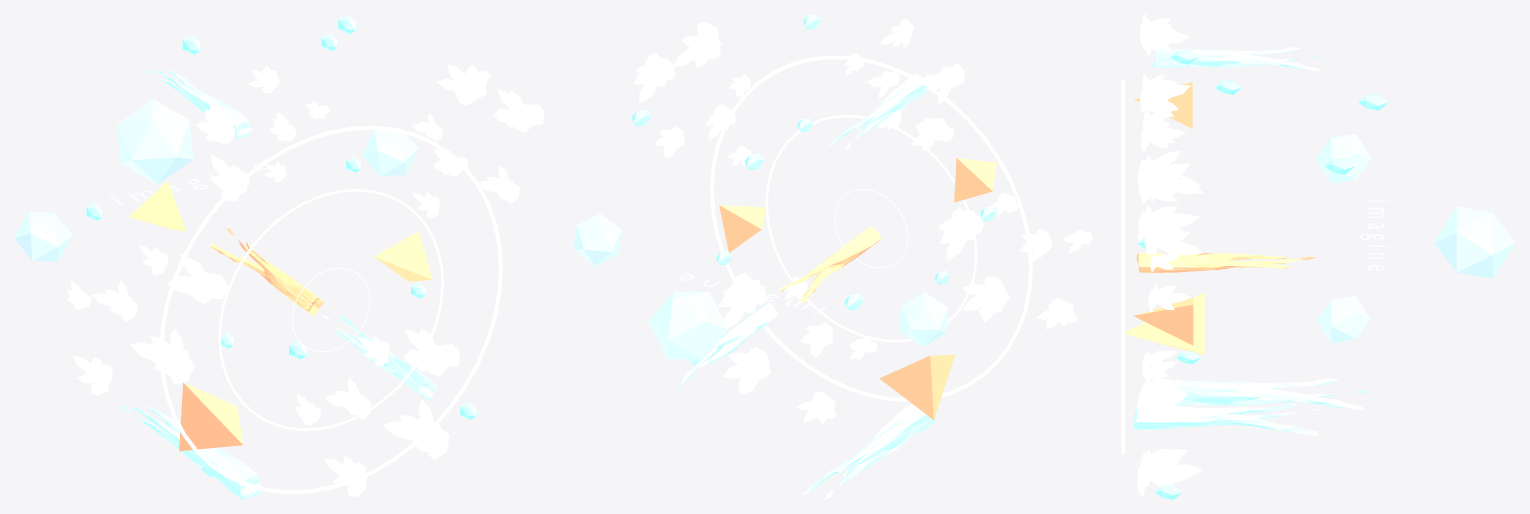
Rendered from asset.glb.
3 renders of one model, left to right at view 1: azimuth 30°, elevation 25°; view 2: azimuth 150°, elevation 25°; view 3: azimuth 270°, elevation 25°, orthographic. The views are drawn at different scales.
Visible parts, largest first — view 1: Icosphere.002, Icosphere.001, Torus, Icosphere.004, Icosphere.009, Icosphere.013, Cone, Cube.003, Torus.001, Icosphere.015, Icosphere.014, Cube.005 (+4 smaller); view 2: Icosphere.002, Icosphere.001, Icosphere.004, Icosphere.009, Torus, Icosphere.013, Cube.003, Cone, Icosphere.015, Icosphere.014, Cube, Cube.005 (+4 smaller); view 3: Icosphere.002, Icosphere.009, Icosphere.004, Cube.003, Icosphere.013, Icosphere.001, Cube, Cube.001, Cube.005, Torus, Icosphere.014, Icosphere.015 (+4 smaller).
Boxes of the visible parts, x1=… form: Icosphere.002: x1=294, y1=328, x2=459, y2=496; Icosphere.001: x1=66, y1=245, x2=227, y2=395; Torus: x1=159, y1=125, x2=502, y2=494; Icosphere.004: x1=411, y1=64, x2=544, y2=217; Icosphere.009: x1=117, y1=99, x2=193, y2=184; Icosphere.013: x1=196, y1=64, x2=329, y2=201; Cone: x1=179, y1=382, x2=242, y2=451; Cube.003: x1=118, y1=406, x2=261, y2=499; Torus.001: x1=218, y1=189, x2=443, y2=430; Icosphere.015: x1=14, y1=211, x2=72, y2=261; Icosphere.014: x1=362, y1=127, x2=418, y2=176; Cube.005: x1=209, y1=228, x2=323, y2=315; Icosphere.002: x1=718, y1=272, x2=876, y2=424; Icosphere.001: x1=938, y1=193, x2=1092, y2=329; Icosphere.004: x1=633, y1=21, x2=751, y2=165; Icosphere.009: x1=648, y1=291, x2=728, y2=359; Torus: x1=710, y1=55, x2=1032, y2=401; Icosphere.013: x1=844, y1=19, x2=965, y2=151; Cube.003: x1=802, y1=404, x2=936, y2=499; Cone: x1=879, y1=355, x2=954, y2=419; Icosphere.015: x1=899, y1=292, x2=947, y2=346; Icosphere.014: x1=573, y1=213, x2=621, y2=265; Cube: x1=675, y1=302, x2=778, y2=391; Cube.005: x1=779, y1=226, x2=881, y2=303; Icosphere.002: x1=1137, y1=350, x2=1202, y2=495; Icosphere.009: x1=1434, y1=206, x2=1515, y2=278; Icosphere.004: x1=1145, y1=160, x2=1203, y2=312; Cube.003: x1=1144, y1=377, x2=1372, y2=410; Icosphere.013: x1=1139, y1=14, x2=1190, y2=128; Icosphere.001: x1=1137, y1=109, x2=1200, y2=246; Cube: x1=1133, y1=403, x2=1323, y2=435; Cube.001: x1=1154, y1=47, x2=1324, y2=71; Cube.005: x1=1136, y1=252, x2=1316, y2=272; Torus: x1=1121, y1=79, x2=1125, y2=454; Icosphere.014: x1=1317, y1=295, x2=1370, y2=343; Icosphere.015: x1=1316, y1=134, x2=1371, y2=183.
Bounding box in the file's own units: 43.64 × 39.33 × 33.13.
